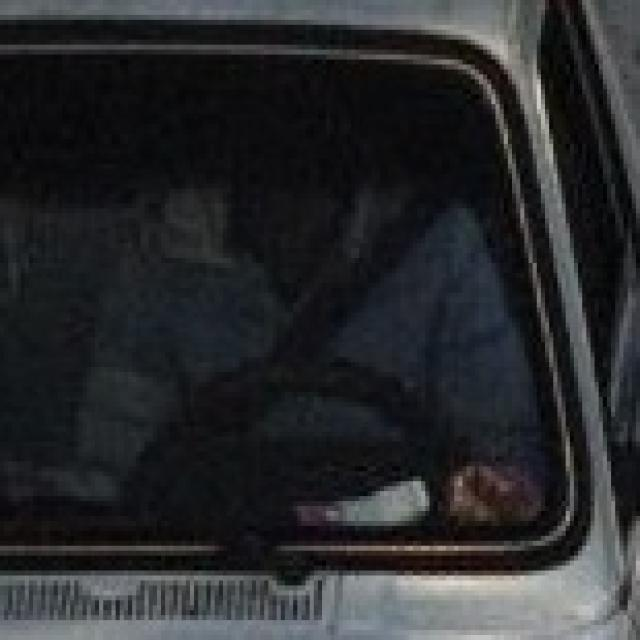windshield: (6, 9, 597, 607)
